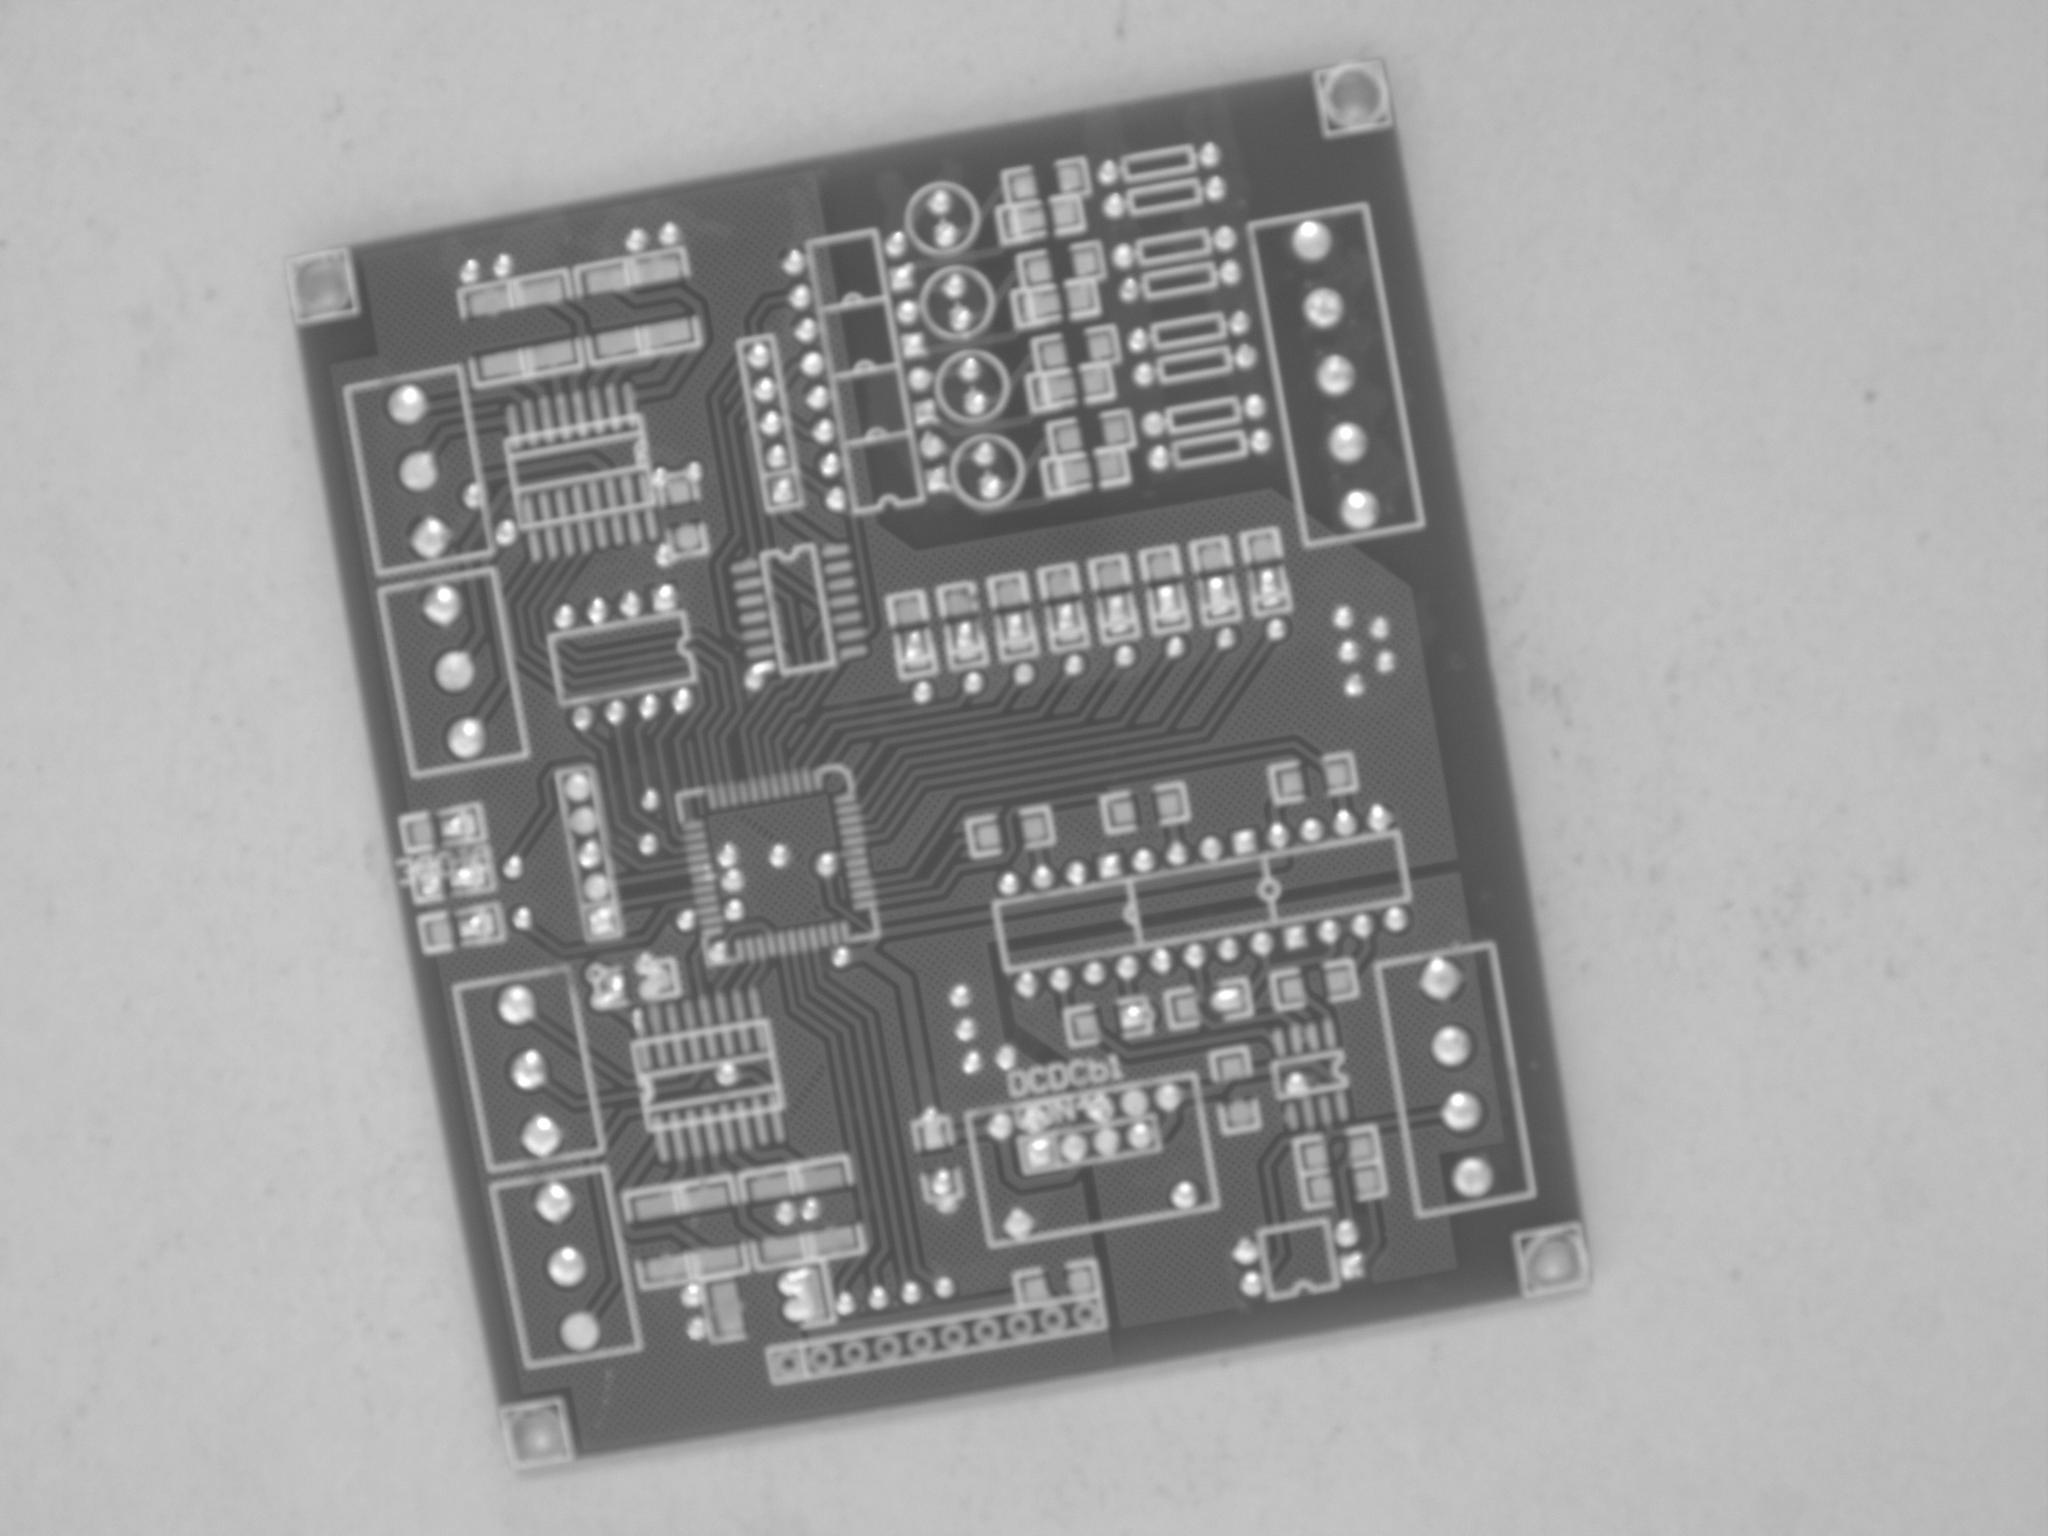moihan: (1440, 1089, 1484, 1136), (1419, 957, 1463, 1002), (434, 649, 476, 695), (1430, 1025, 1474, 1068), (1451, 1155, 1493, 1199), (423, 582, 463, 628), (1290, 219, 1332, 261), (535, 1181, 576, 1225), (410, 515, 450, 558), (447, 715, 485, 760), (1453, 1155, 1493, 1197), (1327, 423, 1367, 465), (1338, 487, 1379, 529), (521, 1115, 561, 1157), (1314, 355, 1355, 397), (510, 1047, 548, 1091), (497, 984, 535, 1028), (387, 384, 427, 424), (548, 1247, 587, 1286), (400, 452, 437, 492), (561, 1312, 598, 1352), (1303, 290, 1343, 328), (774, 1292, 816, 1320), (950, 621, 979, 660), (1024, 1137, 1055, 1173), (1156, 589, 1185, 621), (1003, 1208, 1035, 1238), (1056, 607, 1082, 642), (745, 662, 774, 692), (1105, 595, 1129, 631), (439, 815, 474, 839), (598, 971, 622, 1007), (768, 478, 793, 510), (1209, 578, 1234, 611), (906, 629, 929, 665), (1171, 1181, 1198, 1210), (934, 219, 961, 248), (1059, 1134, 1087, 1163), (1366, 803, 1393, 831), (777, 1268, 813, 1289), (1209, 991, 1242, 1013), (585, 868, 608, 900), (1384, 907, 1411, 933), (800, 350, 826, 378), (1156, 1084, 1182, 1112), (1087, 1099, 1116, 1123), (1268, 820, 1290, 850), (1232, 829, 1258, 855), (1121, 1091, 1147, 1117), (569, 807, 595, 833), (1232, 1238, 1256, 1265), (890, 265, 914, 292), (816, 850, 839, 879), (653, 582, 676, 611), (795, 315, 818, 344), (1095, 1129, 1118, 1158), (1006, 618, 1027, 649), (1182, 942, 1206, 968), (1116, 955, 1140, 981), (914, 400, 939, 426), (563, 776, 589, 800), (1342, 1252, 1364, 1279), (1335, 1220, 1358, 1247), (1032, 863, 1055, 891), (995, 1044, 1018, 1071), (671, 687, 693, 715), (903, 331, 926, 358), (950, 308, 977, 331), (1122, 1005, 1150, 1028), (990, 1113, 1013, 1141), (592, 908, 614, 936), (1100, 852, 1121, 881), (813, 416, 834, 445), (927, 194, 956, 215), (926, 465, 945, 495), (1284, 926, 1308, 950), (1082, 962, 1106, 986), (787, 284, 811, 308), (908, 366, 932, 390), (1240, 1271, 1263, 1297), (1251, 931, 1274, 957), (1151, 949, 1174, 975), (1016, 973, 1039, 999), (1216, 626, 1238, 652), (619, 591, 642, 616), (626, 227, 648, 253), (782, 250, 805, 276), (805, 384, 827, 410), (921, 432, 943, 458), (1250, 428, 1272, 453), (1229, 310, 1251, 336), (1111, 244, 1134, 269), (1103, 192, 1126, 218), (1166, 839, 1187, 866), (1335, 810, 1356, 837), (826, 484, 847, 511), (579, 841, 600, 868), (1130, 1123, 1151, 1150), (463, 481, 482, 510), (714, 1063, 739, 1086), (1351, 915, 1374, 939), (1050, 968, 1072, 992), (1200, 836, 1222, 860), (1300, 818, 1322, 842), (955, 1018, 977, 1042), (721, 868, 743, 892), (674, 908, 697, 933), (1266, 618, 1288, 642), (1343, 673, 1366, 697), (553, 605, 576, 629), (492, 253, 514, 278), (658, 223, 681, 247), (1142, 411, 1166, 434), (1214, 227, 1237, 252), (1198, 144, 1221, 168), (450, 865, 474, 887), (774, 1200, 795, 1226), (1317, 920, 1338, 945), (1134, 847, 1155, 873), (1014, 662, 1035, 687), (606, 700, 627, 726), (885, 232, 906, 258), (1245, 394, 1266, 419), (1148, 445, 1169, 471), (639, 694, 658, 721), (1266, 568, 1282, 600), (901, 1281, 922, 1305), (769, 844, 790, 868), (718, 844, 739, 868), (679, 1284, 703, 1305), (964, 671, 985, 695), (1369, 616, 1390, 641), (1235, 345, 1256, 369), (966, 390, 987, 415), (1066, 860, 1085, 886), (460, 258, 479, 284), (1098, 161, 1118, 187), (1206, 176, 1226, 202), (455, 916, 481, 936), (589, 597, 606, 624), (497, 518, 514, 545), (934, 1276, 955, 1299), (998, 873, 1019, 895), (832, 945, 853, 968), (913, 681, 934, 703), (1114, 645, 1135, 668), (1338, 641, 1359, 663), (572, 707, 593, 729), (1221, 261, 1242, 284), (748, 344, 769, 366), (869, 1286, 889, 1310), (1218, 937, 1237, 962), (963, 1050, 982, 1075), (513, 907, 532, 931), (800, 1197, 819, 1221), (1334, 605, 1353, 629), (1377, 650, 1397, 674), (821, 453, 840, 478), (897, 300, 916, 324), (1119, 279, 1138, 303), (961, 358, 980, 382), (640, 787, 658, 813), (1063, 655, 1084, 676), (972, 445, 993, 466), (950, 984, 969, 1007), (687, 1318, 706, 1341), (1166, 636, 1185, 658), (1134, 363, 1153, 386), (760, 411, 782, 431), (753, 378, 772, 400), (934, 1170, 953, 1192), (837, 1292, 855, 1317), (505, 855, 522, 879), (724, 900, 743, 921), (766, 445, 785, 466), (1021, 1105, 1040, 1126), (655, 542, 672, 565), (1129, 329, 1145, 353), (980, 476, 1000, 495), (945, 279, 964, 298), (1285, 1075, 1305, 1094), (639, 834, 656, 855), (687, 463, 703, 479), (651, 470, 668, 484)
